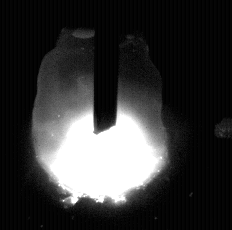arame: (95, 0, 118, 133)
poca: (32, 0, 168, 230)
